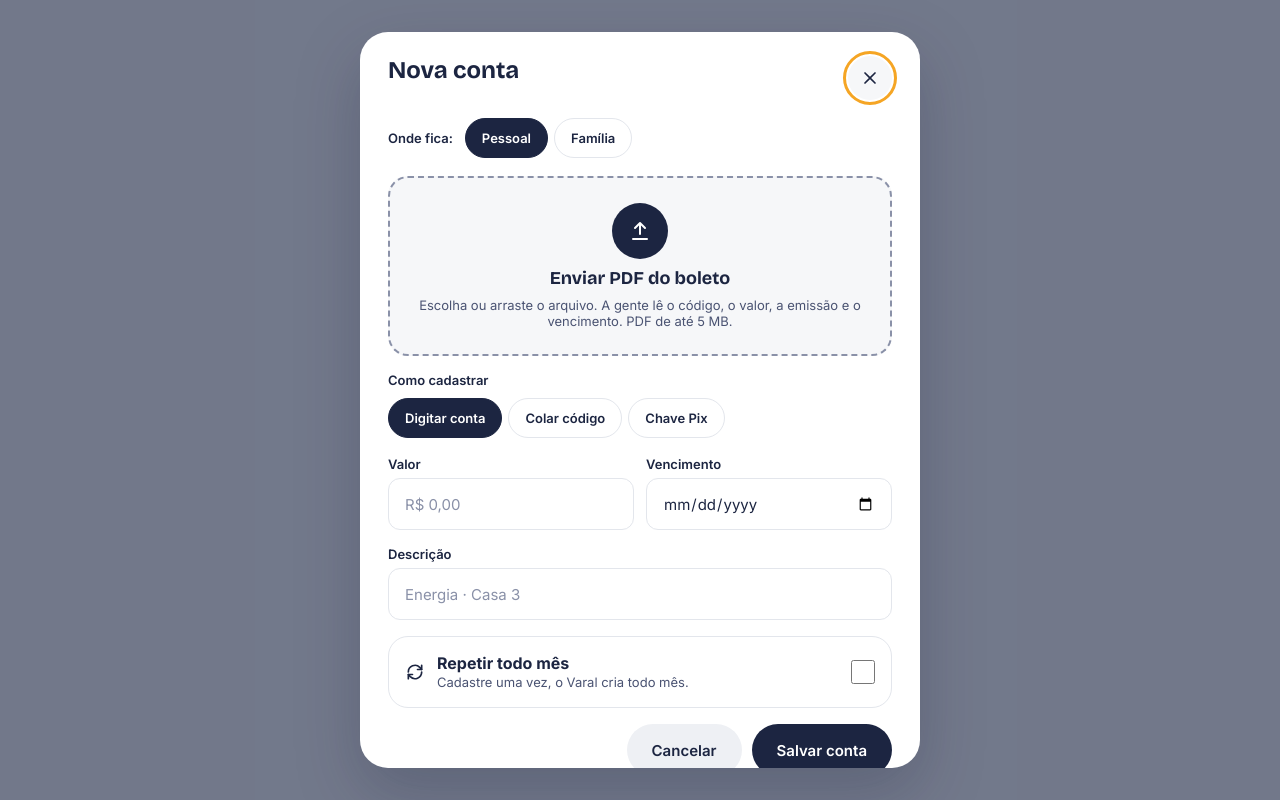
it: rn09/rn11: encoded amount is protected and the legacy due date is an explicit choice sent to save
Later steps or results of the test are not shown.
Click the button "Colar código": (565, 418) [508,396,622,440]
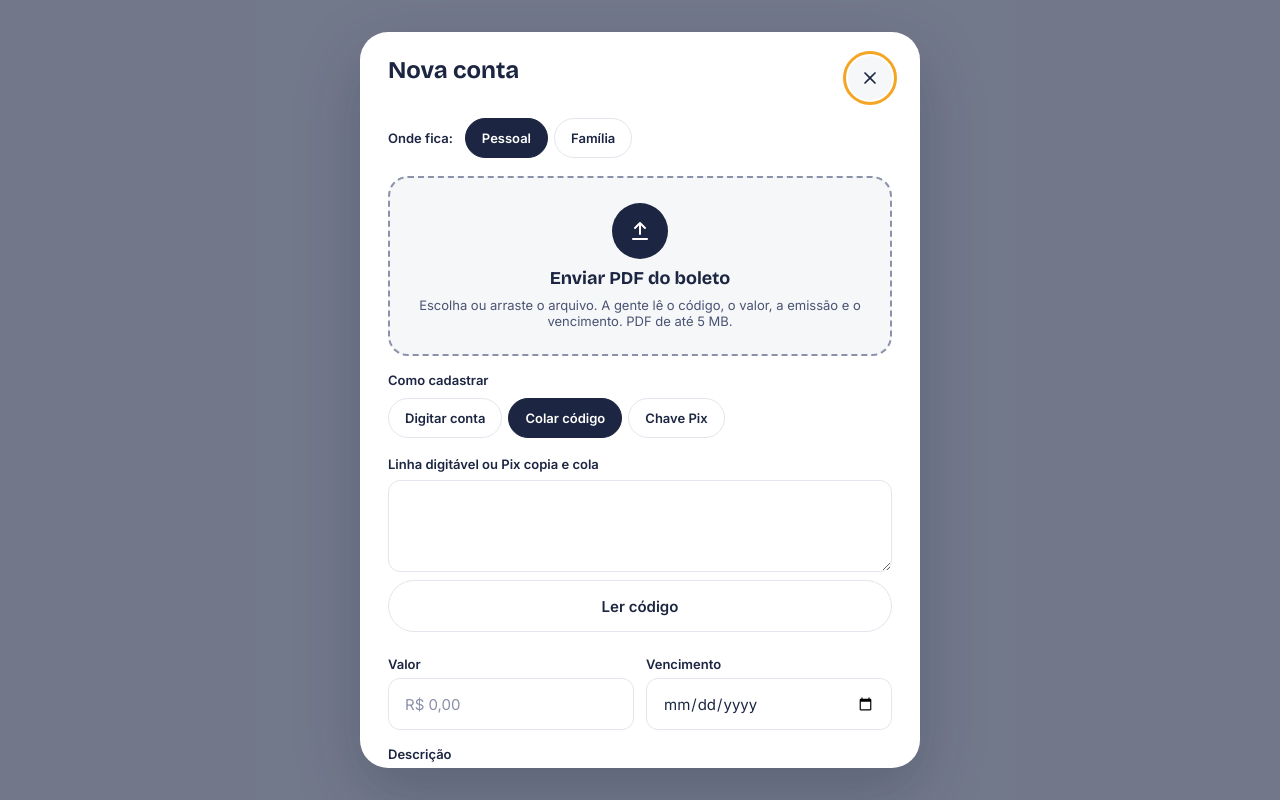
In the text box labelled "Linha digitável ou Pix copia e cola": (640, 526) [388,480,892,572], type "00191234546789012345767890123457710000000012345"
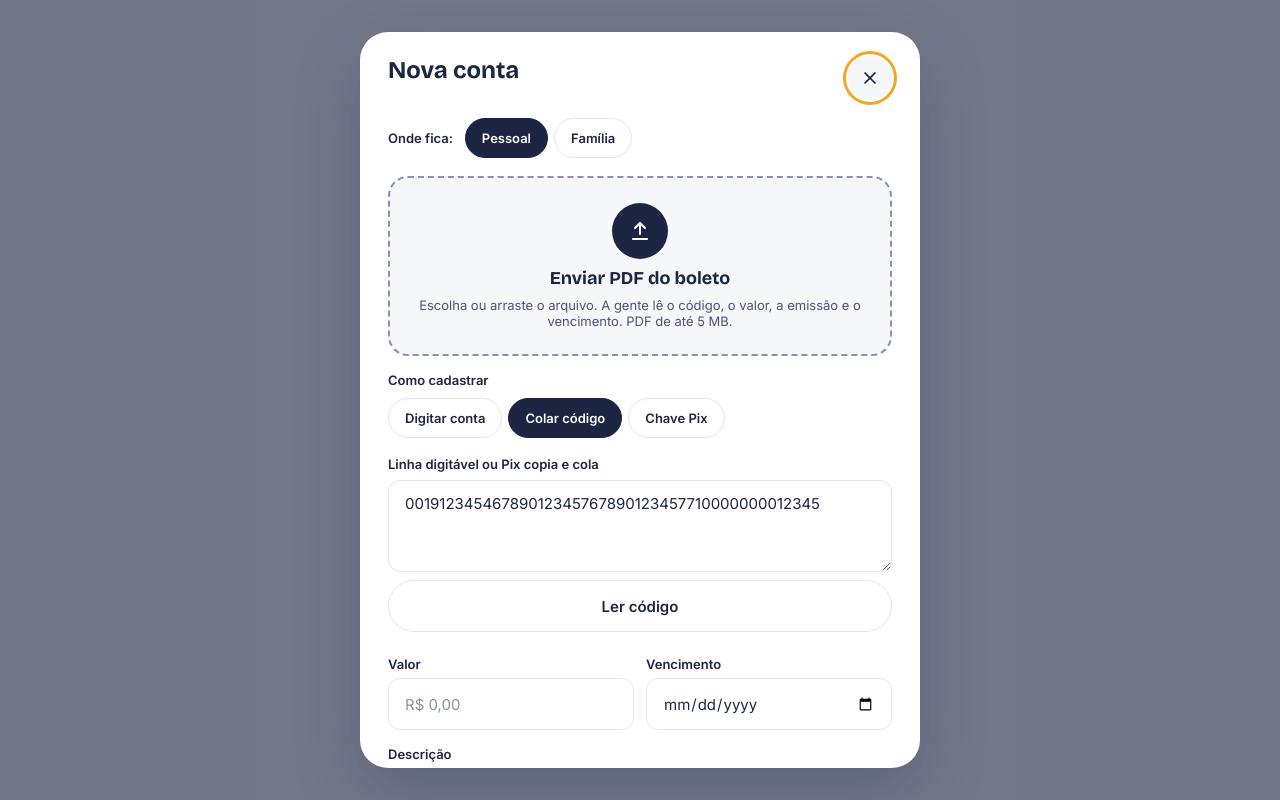
Click the button "Ler código": (640, 606) [388,580,892,632]
(page scrolled)
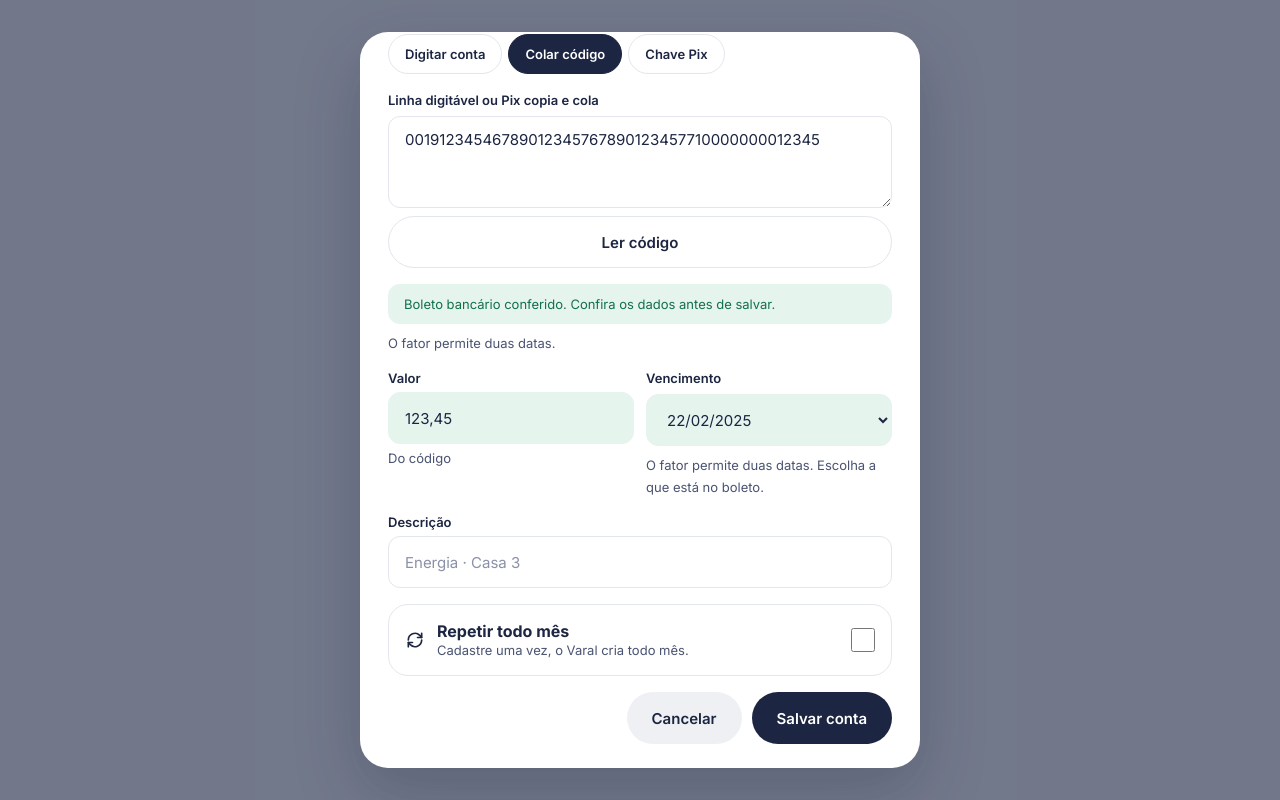
Check: the text "Boleto bancário conferido. Confira os dados antes de salvar." is shown, box [388,284,892,324]
Check: the field labelled "Valor" holds "123,45", box [405,393,617,443]
